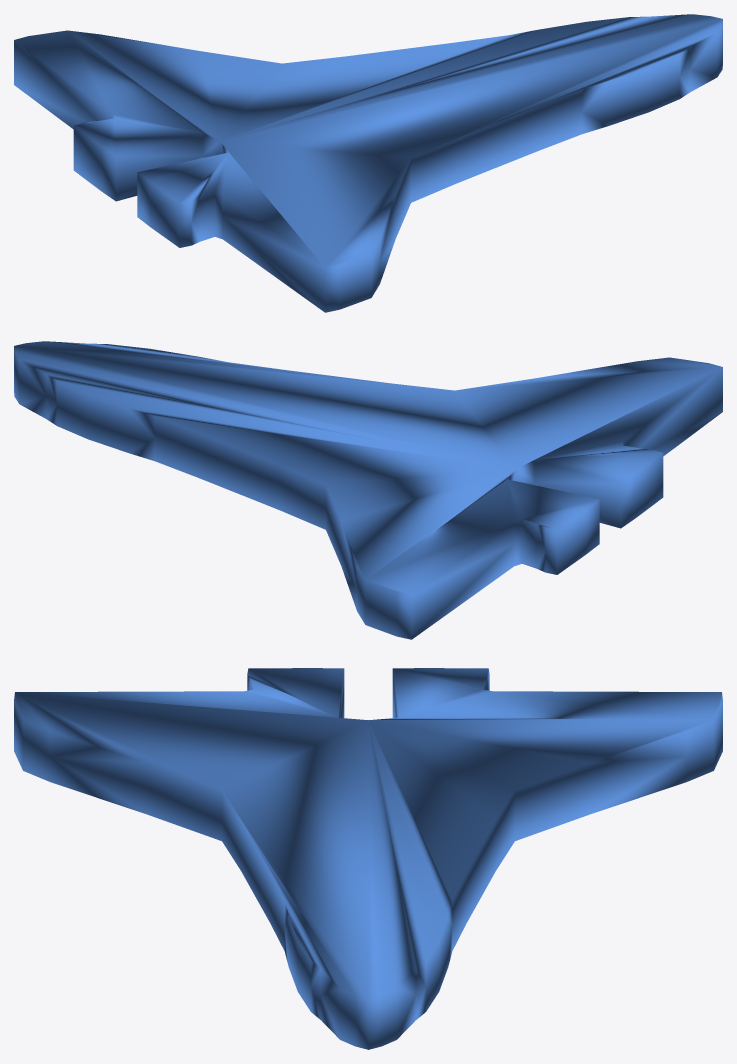
Rendered from Discovery.obj.
The picture shows the model from 3 angles, top to bottom: view 1: azimuth 30°, elevation 25°; view 2: azimuth 150°, elevation 25°; view 3: azimuth 270°, elevation 25°; orthographic projection. The views are drawn at different scales.
Visible parts, largest first — view 1: Discovery; view 2: Discovery; view 3: Discovery.
Boxes of the visible parts, x1,y1,x2,y2 form: Discovery: (14, 14, 722, 312); Discovery: (14, 341, 722, 639); Discovery: (14, 668, 722, 1049).
Bounding box in the file's own units: 2.27 × 0.1634 × 2.06.
